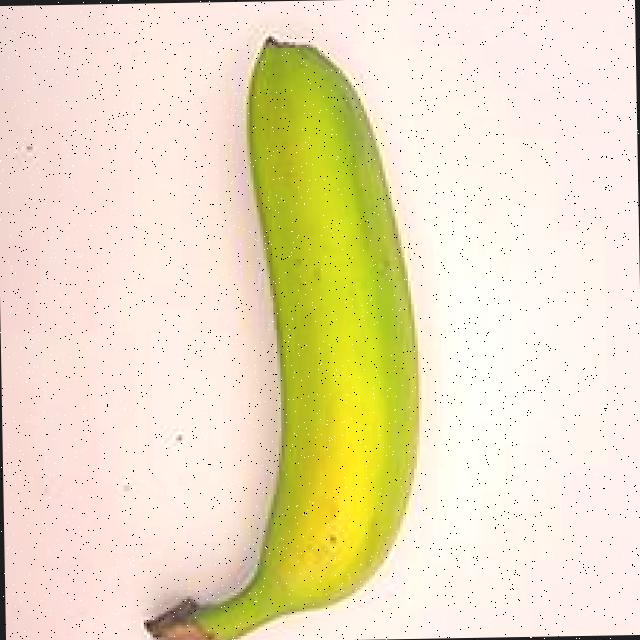Unripe: (91, 12, 457, 640)
